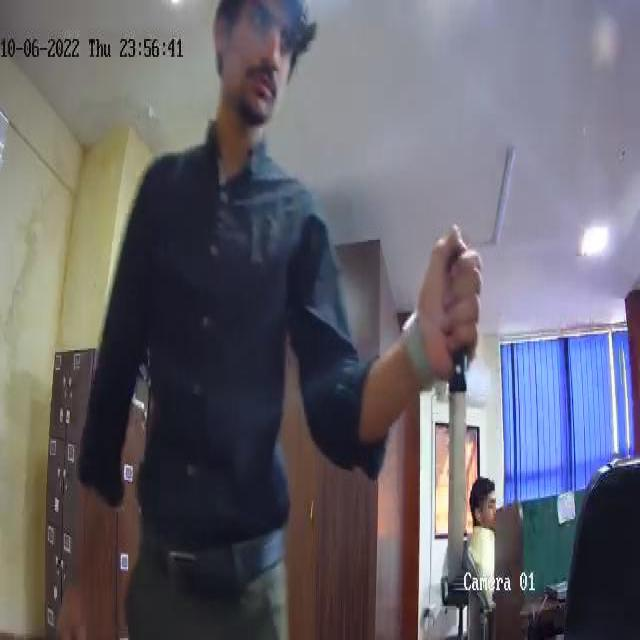Knife: (437, 220, 472, 601)
